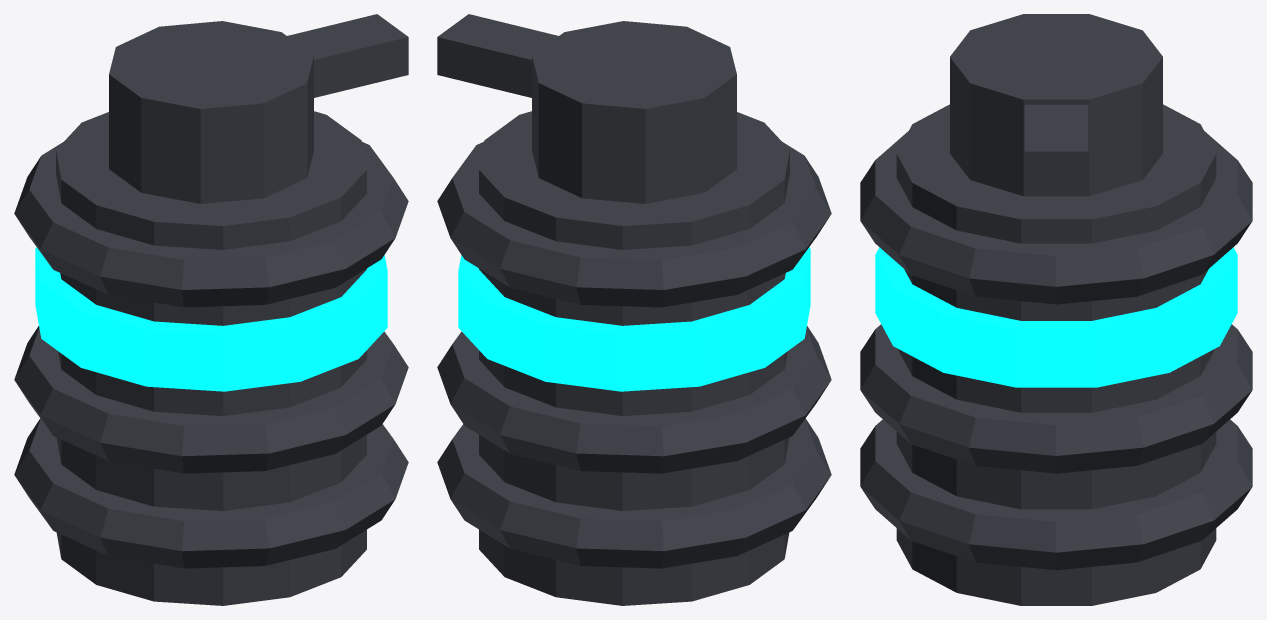
The model's file is GrenadeEMP.fbx.
3 renders of one model, left to right at view 1: azimuth 30°, elevation 25°; view 2: azimuth 150°, elevation 25°; view 3: azimuth 270°, elevation 25°, orthographic.
Visible parts, largest first — view 1: GrenadeEMP; view 2: GrenadeEMP; view 3: GrenadeEMP.
Boxes of the visible parts, left/top/right/bottom form: GrenadeEMP: left=14, top=14, right=408, bottom=605; GrenadeEMP: left=437, top=14, right=831, bottom=605; GrenadeEMP: left=860, top=14, right=1252, bottom=605.
Bounding box in the file's own units: 0.0778 × 0.1 × 0.0736.
